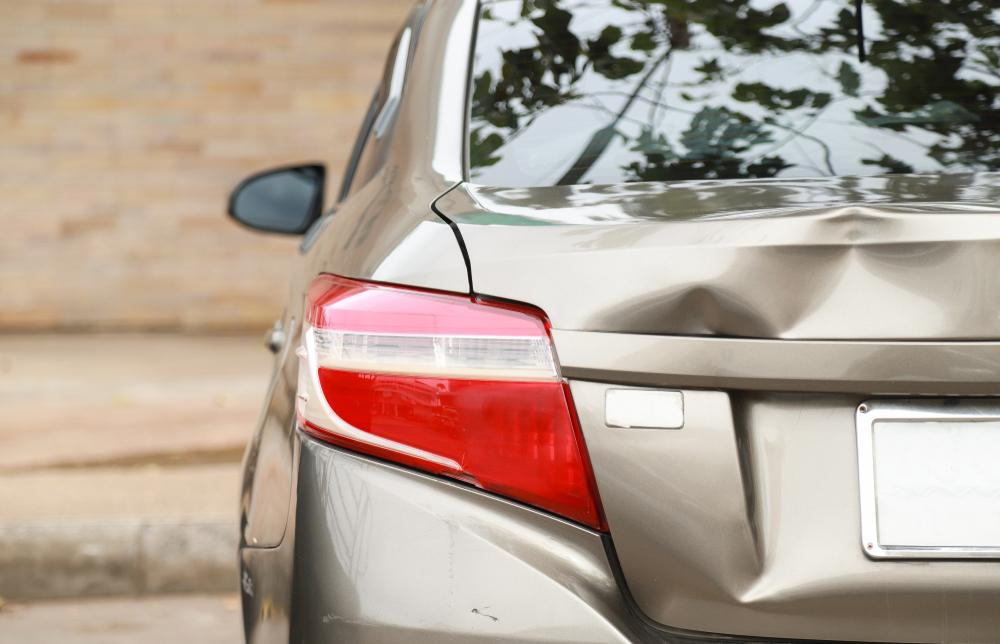dent: (593, 204, 975, 342), (726, 524, 782, 603)
lamp broken: (293, 273, 607, 533)
